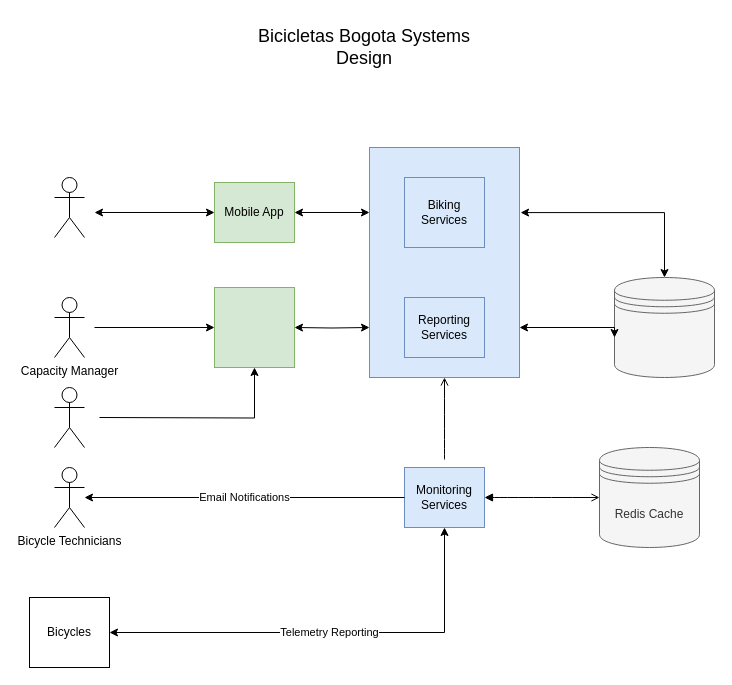
Image size: 732x685. Some labels were removed from this diagram. The box of each missing label's shape, as (x1, y1, x2, y2) in pixels:
Bike DB: (614, 276, 714, 378)
Bike Rider: (54, 176, 84, 238)
Billing Department: (54, 386, 84, 448)
Management Web Application: (214, 286, 294, 368)
